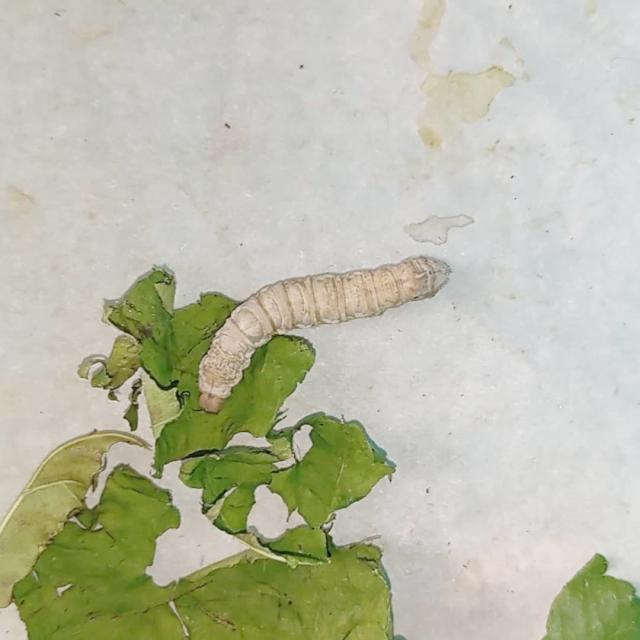Grasserie: (181, 203, 508, 442)
